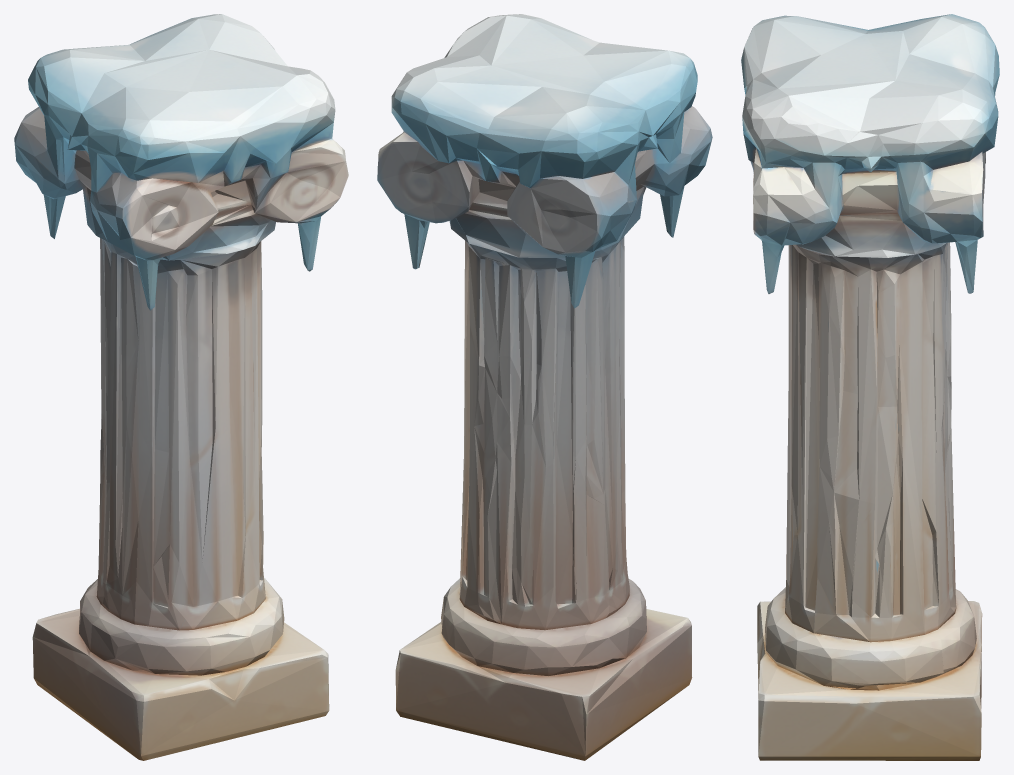
File: snow_column.glb
The picture shows the model from 3 angles, left to right: view 1: azimuth 30°, elevation 25°; view 2: azimuth 150°, elevation 25°; view 3: azimuth 270°, elevation 25°; orthographic projection. The views are drawn at different scales.
Visible parts, largest first — view 1: world; view 2: world; view 3: world.
Part boxes in pixels (x1=…): world: x1=14, y1=14, x2=348, y2=760; world: x1=377, y1=14, x2=712, y2=760; world: x1=741, y1=14, x2=999, y2=760.
Bounding box in the file's own units: 0.3818 × 0.9996 × 0.3552.
1 material, 1 textured.
